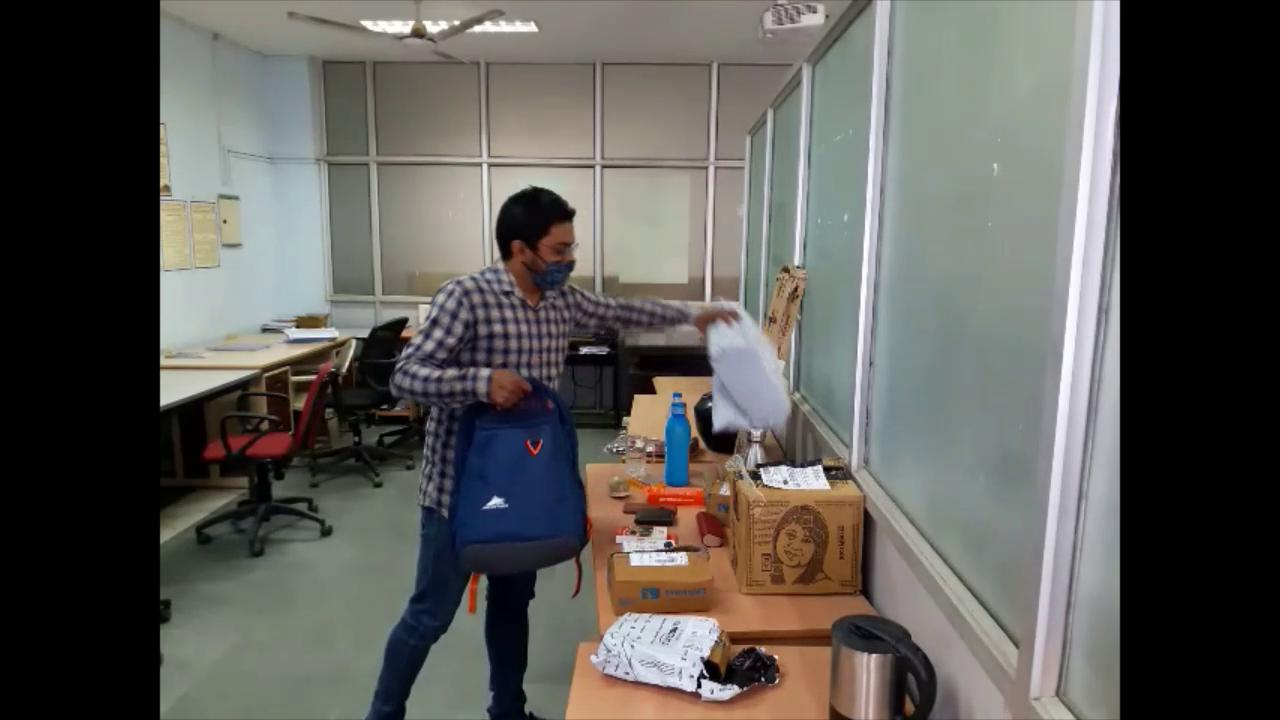shoplifting: (388, 185, 652, 720)
